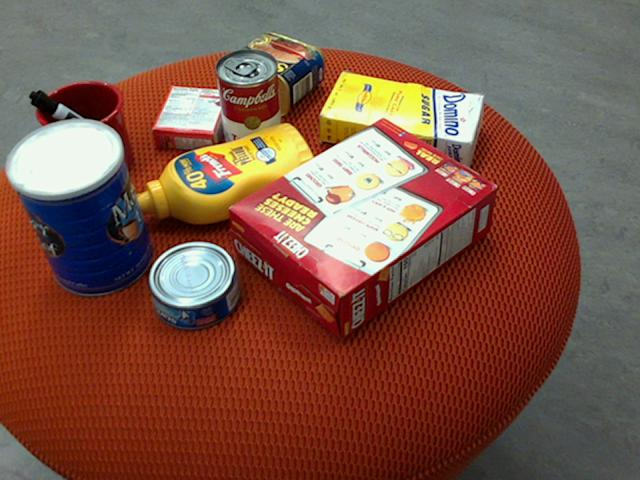cracker_box: (228, 116, 499, 338)
gelatin_box: (151, 84, 232, 150)
large_marker: (29, 90, 130, 160)
master_chef_can: (3, 119, 153, 296)
mug: (26, 80, 133, 184)
mustard_bottle: (130, 122, 319, 224)
potted_meat_can: (220, 32, 325, 116)
sugar_box: (319, 72, 486, 166)
tomato_soup_can: (215, 47, 282, 156)
tuna_fish_can: (148, 242, 241, 331)
